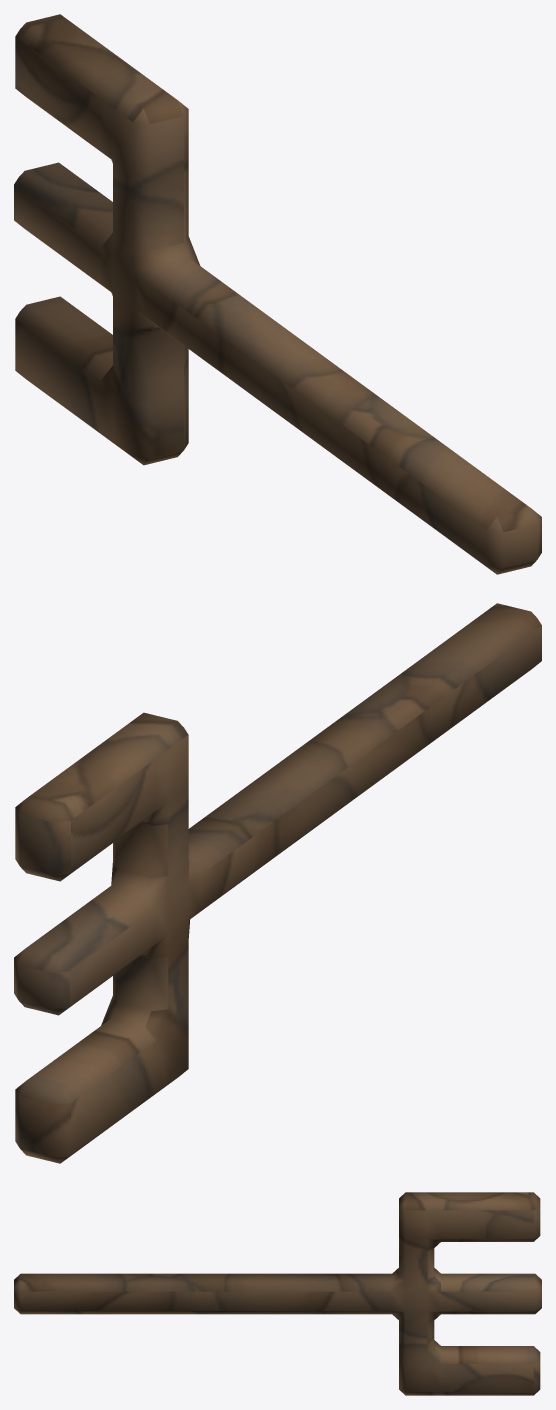
Rendered from item-throwable-pitchfork.glb.
3 views of the same model, one above another, from view 1: azimuth 30°, elevation 25°; view 2: azimuth 150°, elevation 25°; view 3: azimuth 270°, elevation 25° (orthographic). The views are drawn at different scales.
Bounding box in the file's own units: 0.5995 × 3.68 × 9.06.
1 material, 1 textured.
